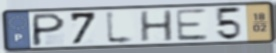5: (213, 6, 244, 41)
7: (69, 11, 99, 46)
E: (174, 8, 211, 43)
H: (139, 9, 176, 43)
L: (104, 9, 138, 46)
P: (30, 12, 68, 47)
